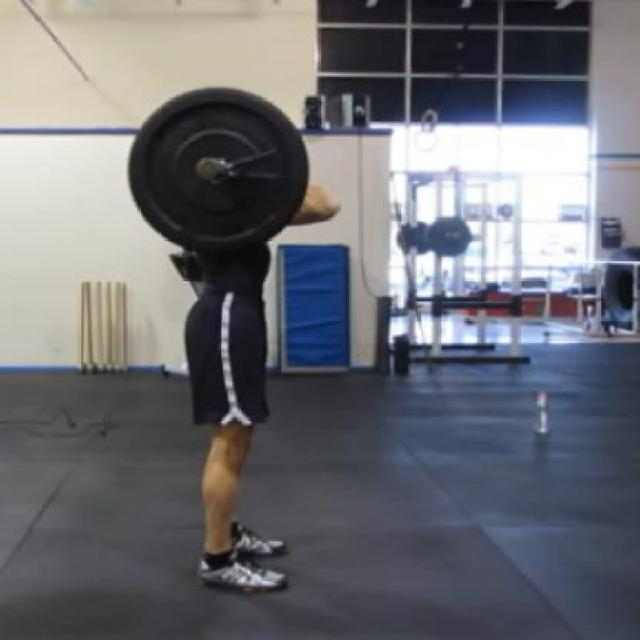barbell: (117, 75, 328, 269)
